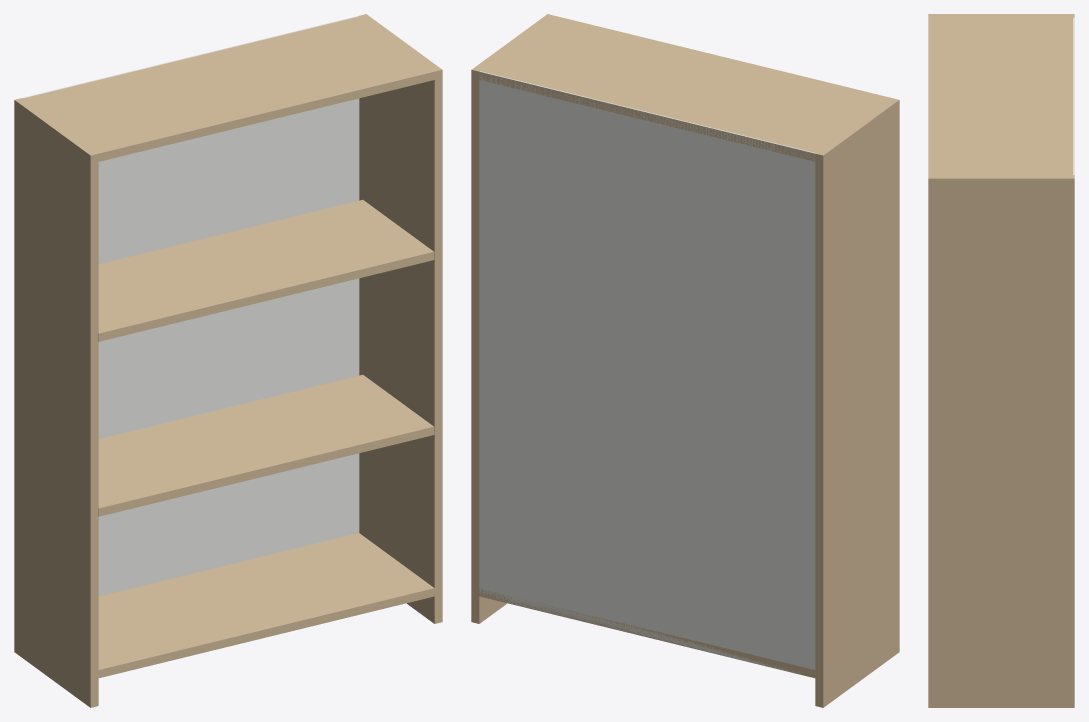
3 views of the same model, side by side, from view 1: azimuth 30°, elevation 25°; view 2: azimuth 150°, elevation 25°; view 3: azimuth 270°, elevation 25° (orthographic). The views are drawn at different scales.
Visible parts, largest first — view 1: ZS-01 Záda, BK-01 Bok levý, BK-02 Bok pravý, VK-01 Víko, DN-01 Dno, PO-01 Police 1, PO-02 Police 2; view 2: ZS-01 Záda, BK-01 Bok levý, VK-01 Víko, BK-02 Bok pravý, DN-01 Dno; view 3: BK-02 Bok pravý, VK-01 Víko, BK-01 Bok levý, ZS-01 Záda.
Boxes of the visible parts, x1=… form: ZS-01 Záda: x1=23, y1=16, x2=359, y2=596; BK-01 Bok levý: x1=14, y1=98, x2=98, y2=707; BK-02 Bok pravý: x1=359, y1=14, x2=442, y2=623; VK-01 Víko: x1=23, y1=16, x2=434, y2=161; DN-01 Dno: x1=98, y1=533, x2=434, y2=678; PO-01 Police 1: x1=98, y1=374, x2=434, y2=516; PO-02 Police 2: x1=98, y1=200, x2=434, y2=341; ZS-01 Záda: x1=479, y1=71, x2=815, y2=677; BK-01 Bok levý: x1=815, y1=98, x2=899, y2=707; VK-01 Víko: x1=479, y1=16, x2=890, y2=161; BK-02 Bok pravý: x1=471, y1=14, x2=554, y2=623; DN-01 Dno: x1=479, y1=588, x2=815, y2=677; BK-02 Bok pravý: x1=928, y1=175, x2=1074, y2=707; VK-01 Víko: x1=928, y1=17, x2=1072, y2=174; BK-01 Bok levý: x1=928, y1=14, x2=1074, y2=17; ZS-01 Záda: x1=1073, y1=17, x2=1074, y2=174.
Bounding box in the file's own units: 0.8 × 1.2 × 0.3.
